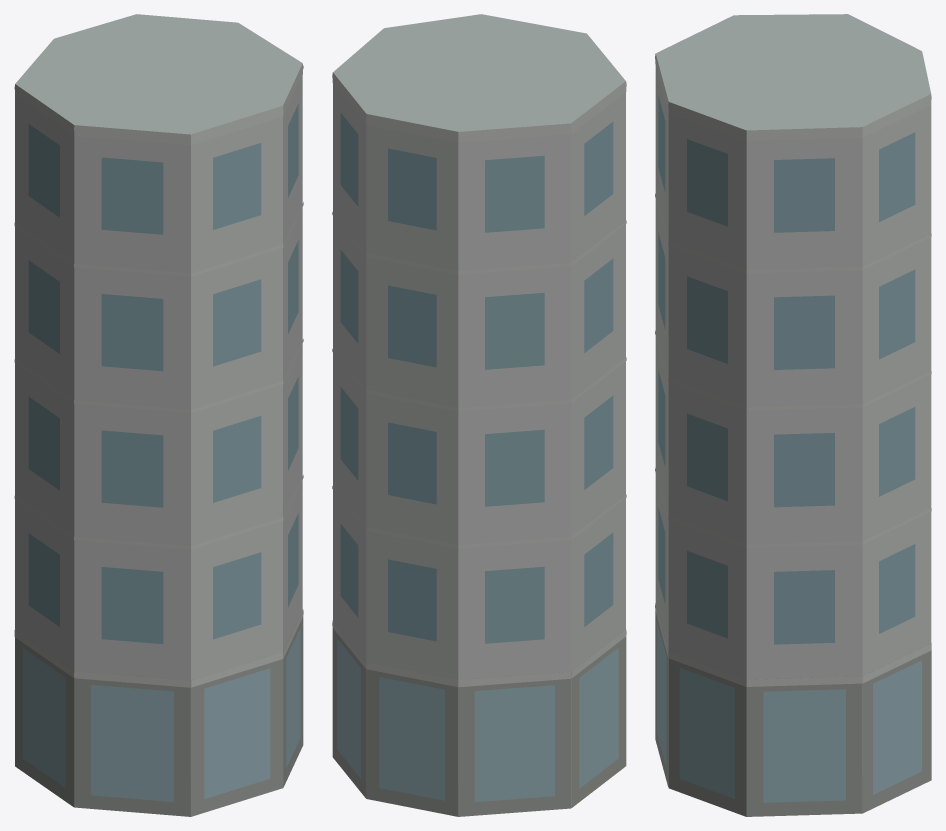
Rendered from survey-upis-32818596.glb.
The picture shows the model from 3 angles, left to right: view 1: azimuth 30°, elevation 25°; view 2: azimuth 150°, elevation 25°; view 3: azimuth 270°, elevation 25°; orthographic projection.
Parts seen in each view (by area): view 1: survey-upis-32818596.tmp; view 2: survey-upis-32818596.tmp; view 3: survey-upis-32818596.tmp.
Boxes of the visible parts, x1=… form: survey-upis-32818596.tmp: x1=14, y1=14, x2=303, y2=816; survey-upis-32818596.tmp: x1=332, y1=14, x2=626, y2=816; survey-upis-32818596.tmp: x1=655, y1=14, x2=931, y2=816.
Bounding box in the file's own units: 5.57 × 15.25 × 5.58.
